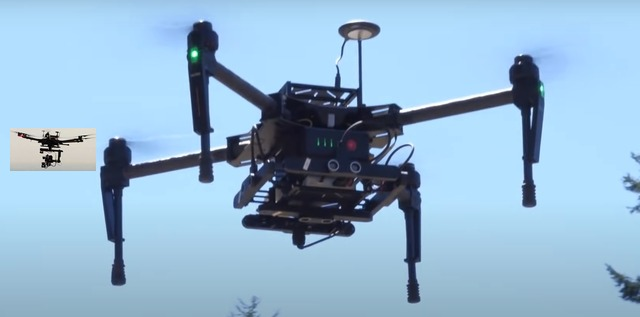drone: (100, 19, 546, 303), (10, 128, 96, 171)
